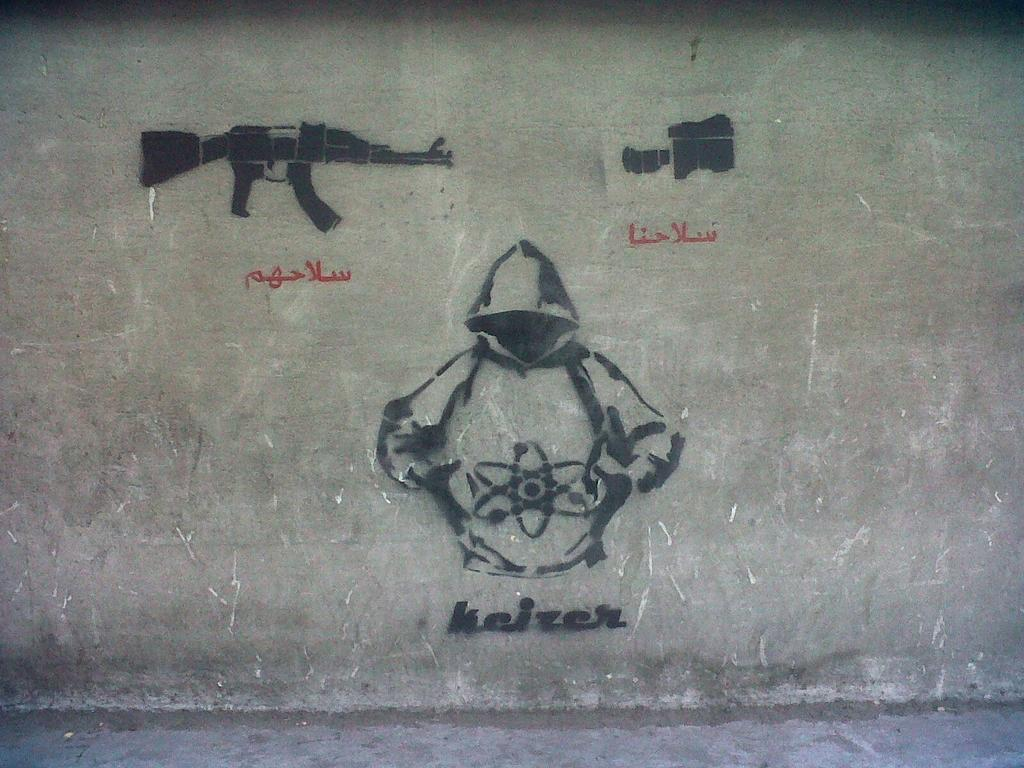Rifle: (140, 125, 455, 236)
